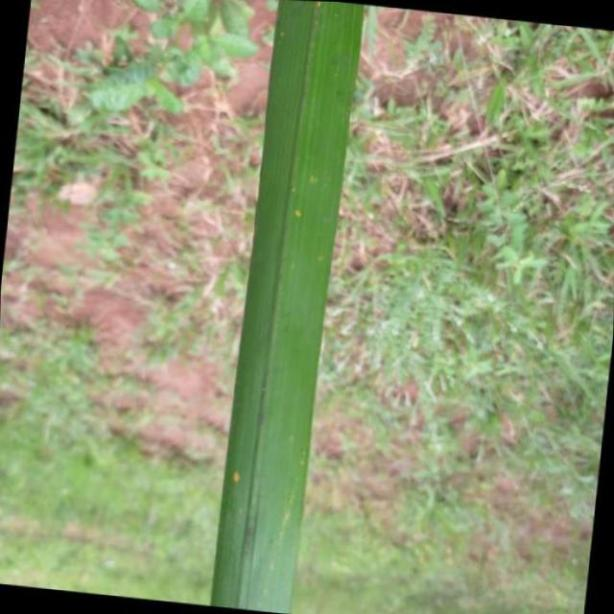Kalium: (208, 0, 368, 614)
